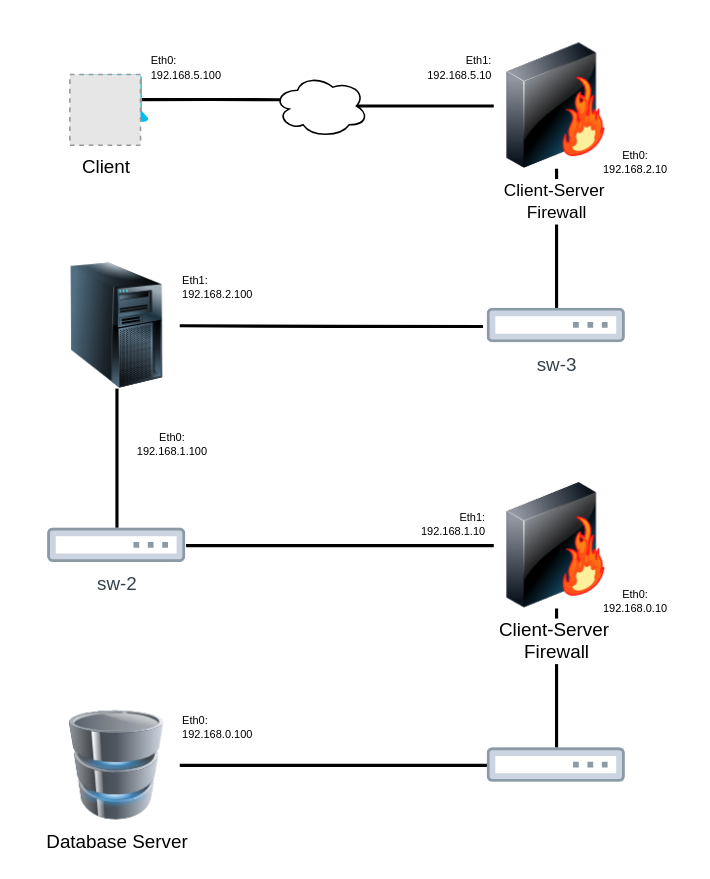
Image size: 710x879. Some labels were removed from this diagram. Grey dashed boxes stand in for pictures. The centre of each missing label's shape, as x and y in pixels:
"GrooveGalaxy Server" goes at (116,325).
"sw-1" goes at (556,764).
